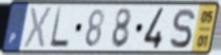4: (141, 6, 165, 51)
8: (111, 7, 134, 50), (84, 8, 106, 49)
L: (48, 6, 71, 49)
S: (168, 7, 196, 50)
X: (22, 6, 54, 50)
